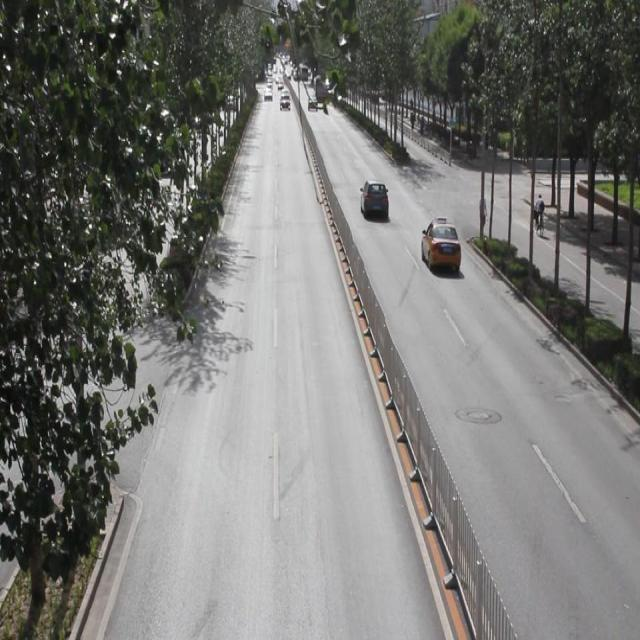car: (419, 216, 460, 272), (359, 176, 388, 220)
